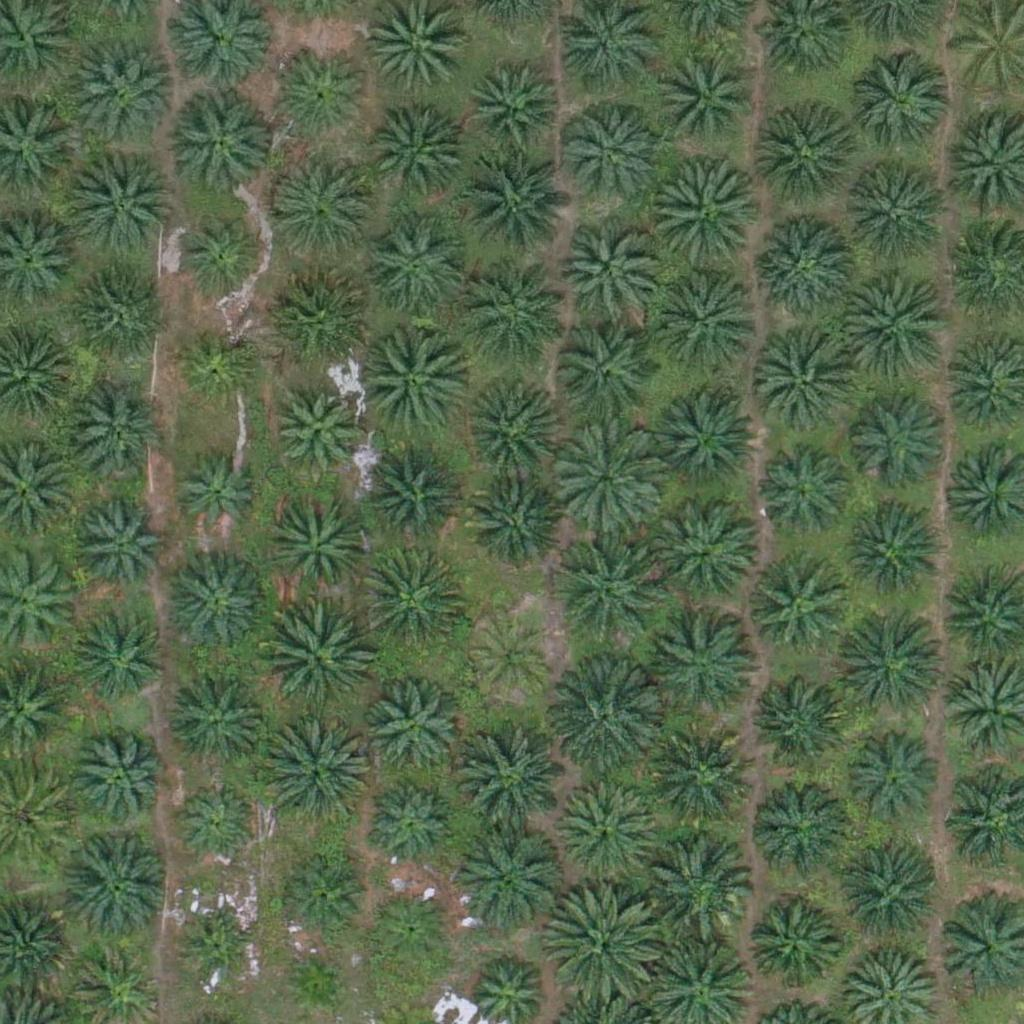Kelapa_Sawit: (548, 536, 661, 650), (349, 322, 462, 435), (648, 160, 761, 273), (840, 267, 953, 380), (641, 829, 754, 942), (548, 662, 661, 775), (258, 715, 371, 828), (259, 603, 372, 716), (846, 157, 958, 271), (546, 882, 658, 996), (69, 34, 181, 147), (65, 149, 177, 262), (269, 149, 381, 262), (458, 149, 570, 262), (549, 421, 661, 534), (650, 264, 762, 377), (836, 607, 948, 720), (357, 545, 469, 658), (59, 829, 171, 942), (455, 728, 567, 841), (450, 821, 562, 934), (66, 272, 166, 373), (71, 381, 171, 482), (169, 92, 269, 193), (281, 268, 381, 369), (364, 3, 464, 104), (363, 215, 463, 316), (354, 444, 454, 545), (457, 375, 557, 476), (467, 275, 567, 376), (561, 102, 661, 203), (558, 218, 658, 319), (656, 383, 756, 484), (657, 49, 757, 150), (751, 106, 851, 207), (757, 214, 857, 315), (756, 339, 856, 440), (849, 391, 949, 492), (856, 50, 956, 151), (741, 895, 841, 996), (843, 503, 943, 604), (557, 783, 657, 884), (362, 677, 462, 778), (266, 496, 366, 597), (164, 556, 264, 657), (166, 669, 266, 770), (68, 728, 168, 829), (369, 101, 469, 201), (551, 325, 651, 425), (841, 852, 941, 952), (841, 728, 941, 828), (753, 773, 853, 873), (745, 553, 845, 653), (750, 669, 850, 769), (656, 502, 756, 602), (656, 619, 756, 719), (648, 732, 748, 832), (458, 472, 558, 572), (175, 320, 263, 408), (175, 207, 263, 295), (270, 388, 358, 476), (366, 884, 454, 972), (467, 615, 555, 703), (171, 782, 259, 870), (74, 614, 162, 702), (73, 505, 161, 593), (368, 780, 455, 869), (170, 452, 257, 540), (279, 51, 366, 139), (468, 60, 555, 148), (759, 448, 846, 536), (277, 854, 364, 942), (277, 946, 352, 1022), (183, 917, 258, 992)
